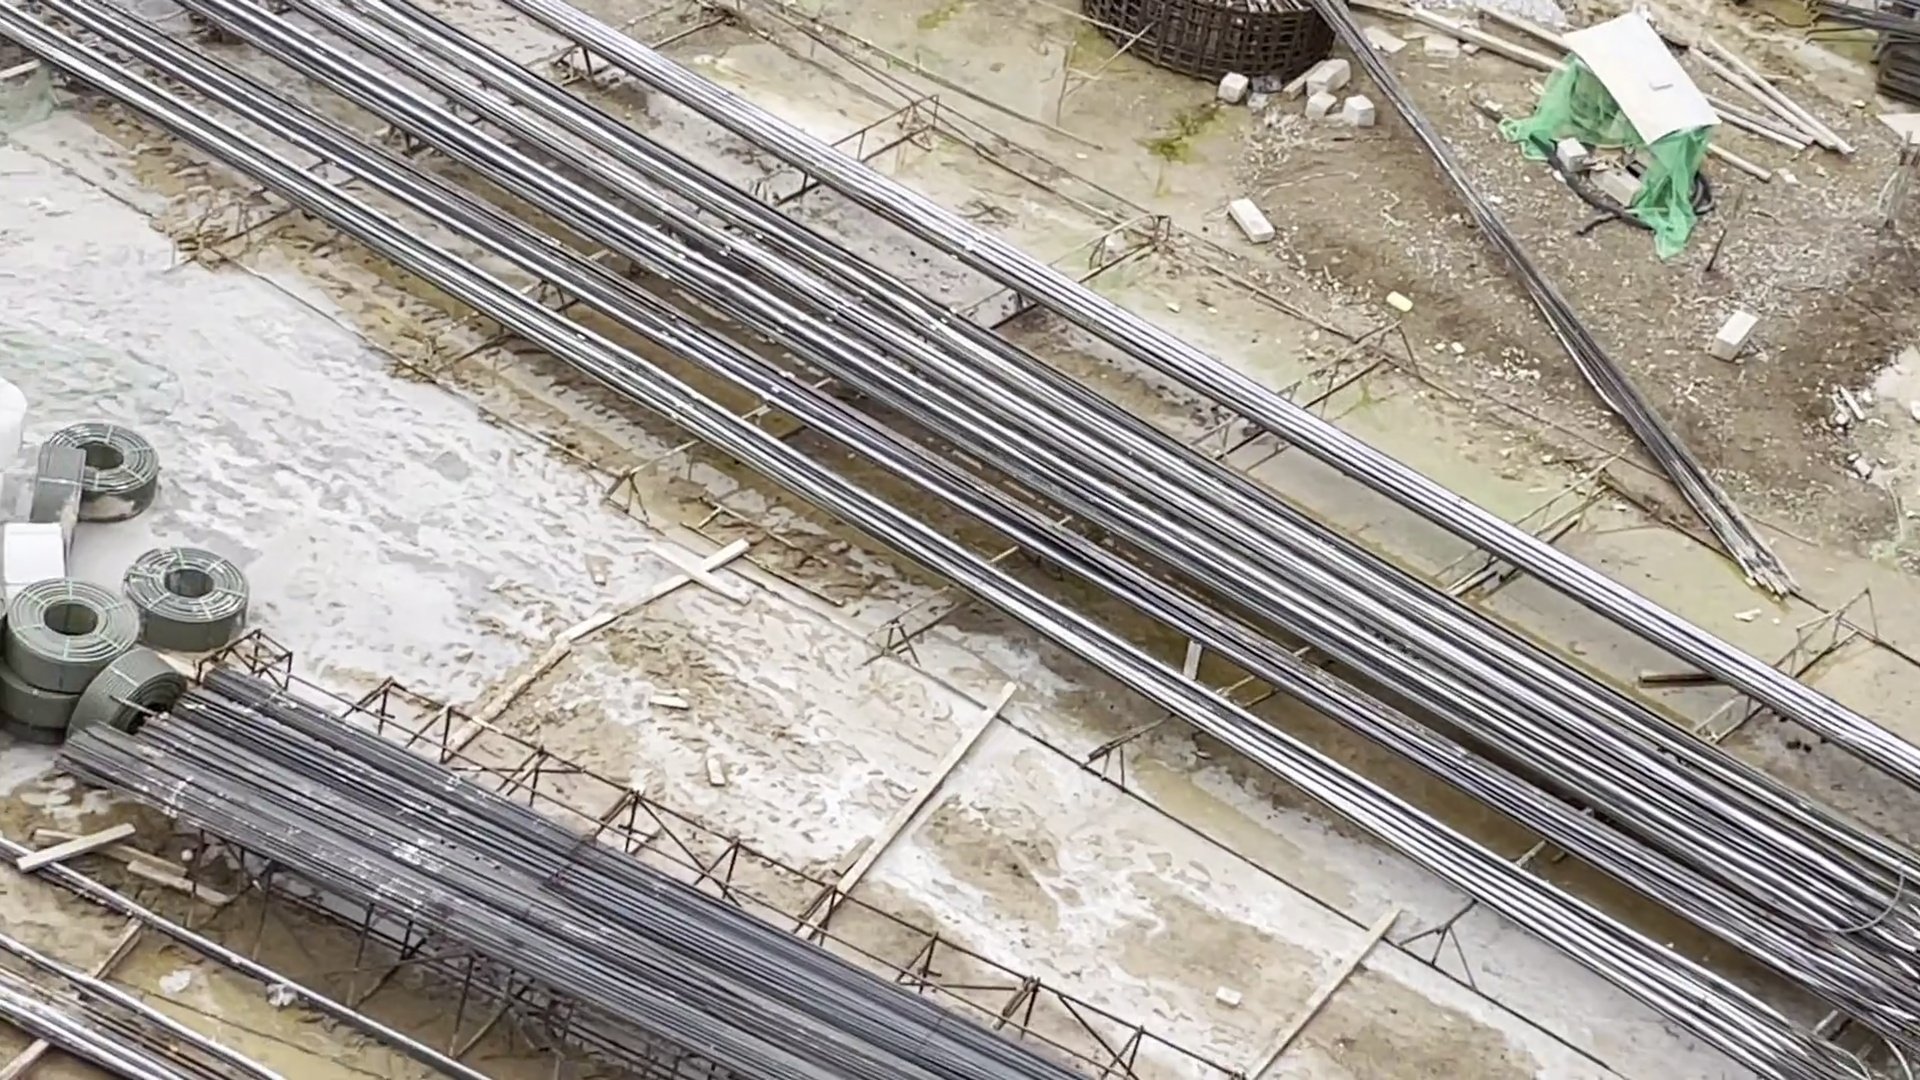rebar: (62, 665, 1043, 1080), (1197, 527, 1886, 1004), (342, 8, 1026, 481)
